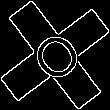O_SE: (22, 21, 88, 89)
